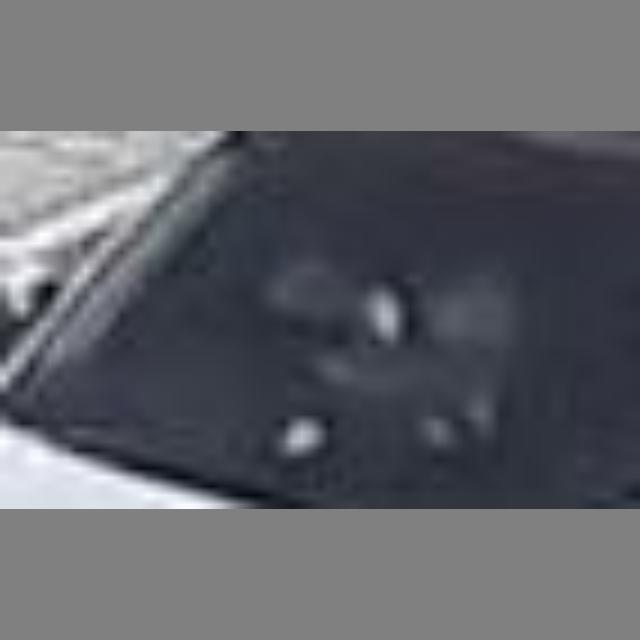pakai: (234, 221, 523, 446)
